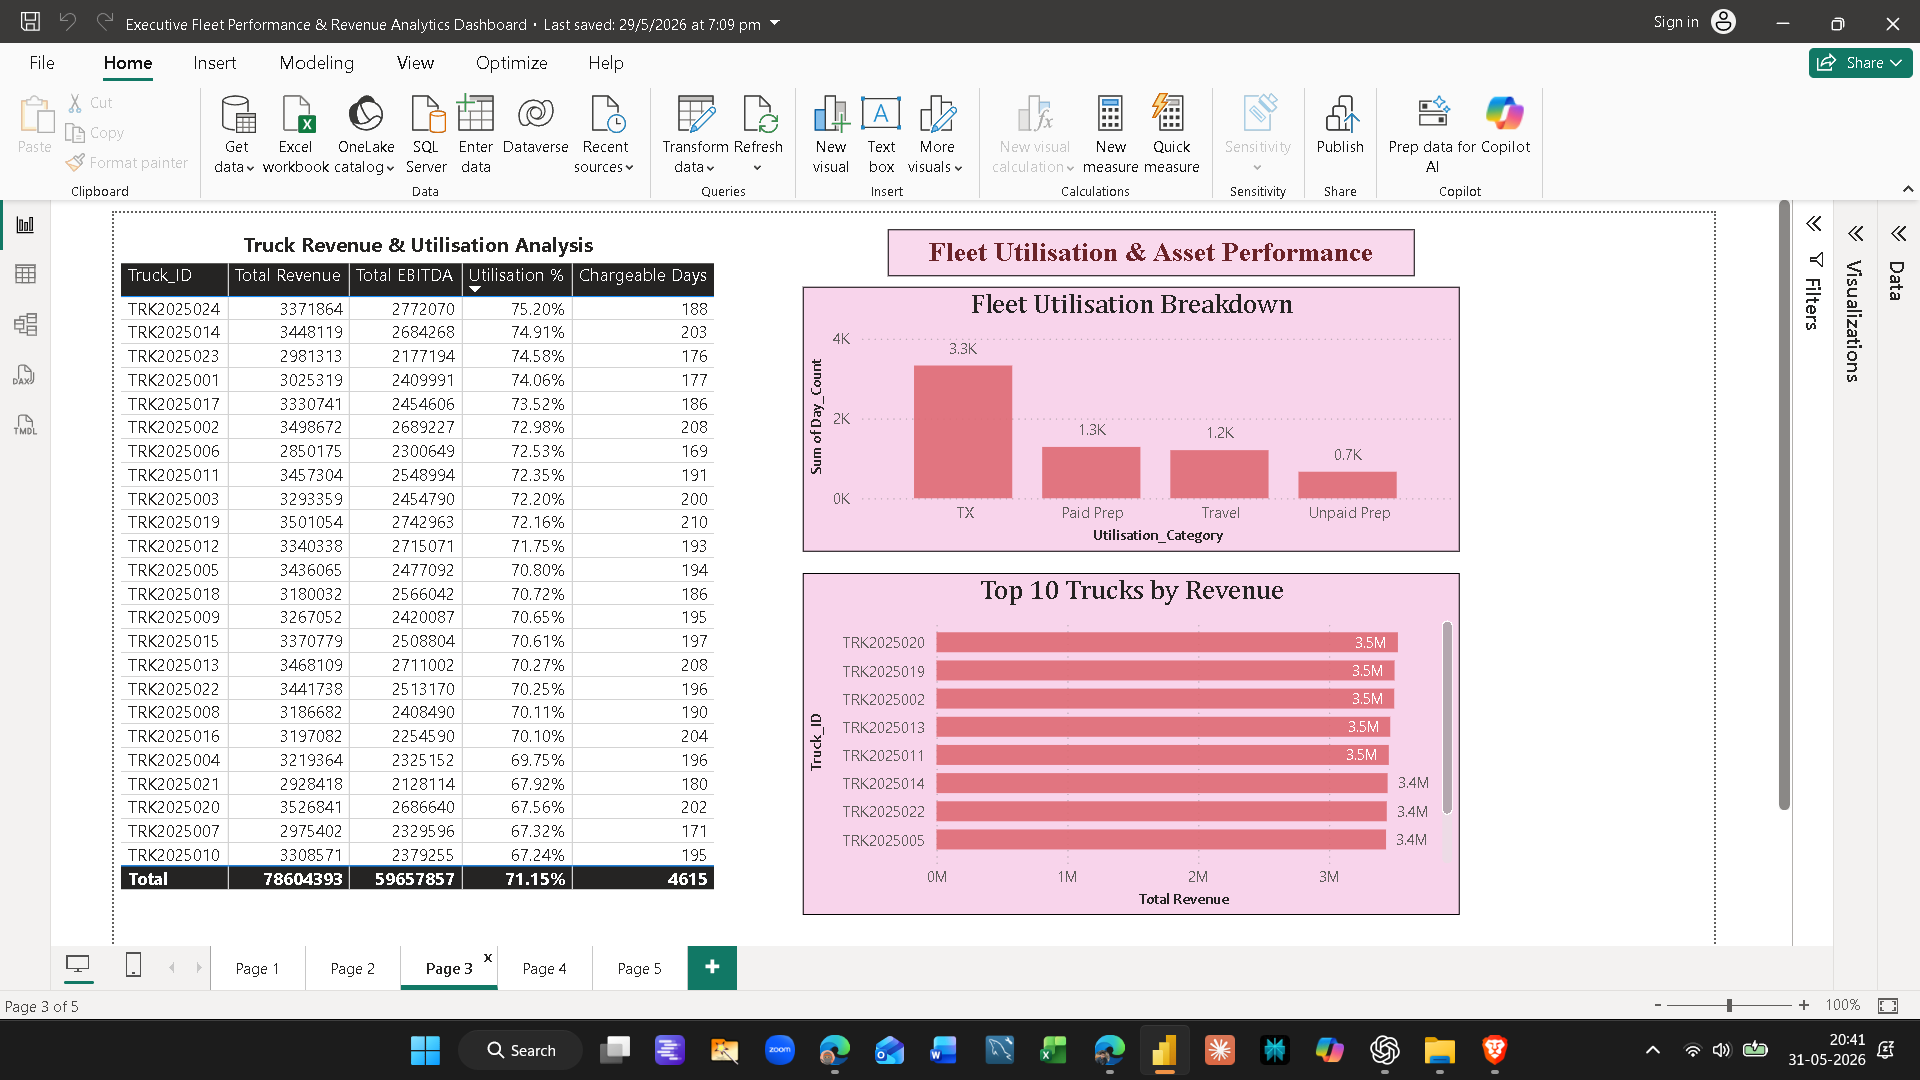

The page's visual inventory and layout, read from the dashboard file:
{"tool":"powerbi","page":{"name":"Page 3","canvas":[1280,720],"ordinal":2},"visuals":[{"type":"columnChart","title":"Fleet Utilisation Breakdown","fields":{"Category":["fact_truck_day.Utilisation_Category"],"Y":["Sum(fact_truck_day.Day_Count)"]},"box":[551,59,526,212],"z":0},{"type":"barChart","title":"Top 10 Trucks by Revenue","fields":{"Category":["fact_truck_day.Truck_ID"],"Y":["fact_truck_day.Total Revenue"]},"box":[551,288,526,274],"z":1000},{"type":"tableEx","title":"Truck Revenue & Utilisation Analysis","fields":{"Values":["fact_truck_day.Truck_ID","fact_truck_day.Total Revenue","fact_truck_day.Total EBITDA","fact_truck_day.Utilisation %","fact_truck_day.Chargeable Days"]},"box":[0,13,488,549],"z":2000},{"type":"textbox","box":[619,13,422,38],"z":2001}]}

Visuals, with their boxes on the page's 1280x720 design canvas (x1, y1, x2, y2). These are canvas units, not pixel positions in the 1920x1080 screenshot, which may show the page scaled, cropped or inside an application window:
"Fleet Utilisation Breakdown" columnChart: crop(551, 59, 1077, 271)
"Top 10 Trucks by Revenue" barChart: crop(551, 288, 1077, 562)
"Truck Revenue & Utilisation Analysis" tableEx: crop(0, 13, 488, 562)
textbox: crop(619, 13, 1041, 51)
